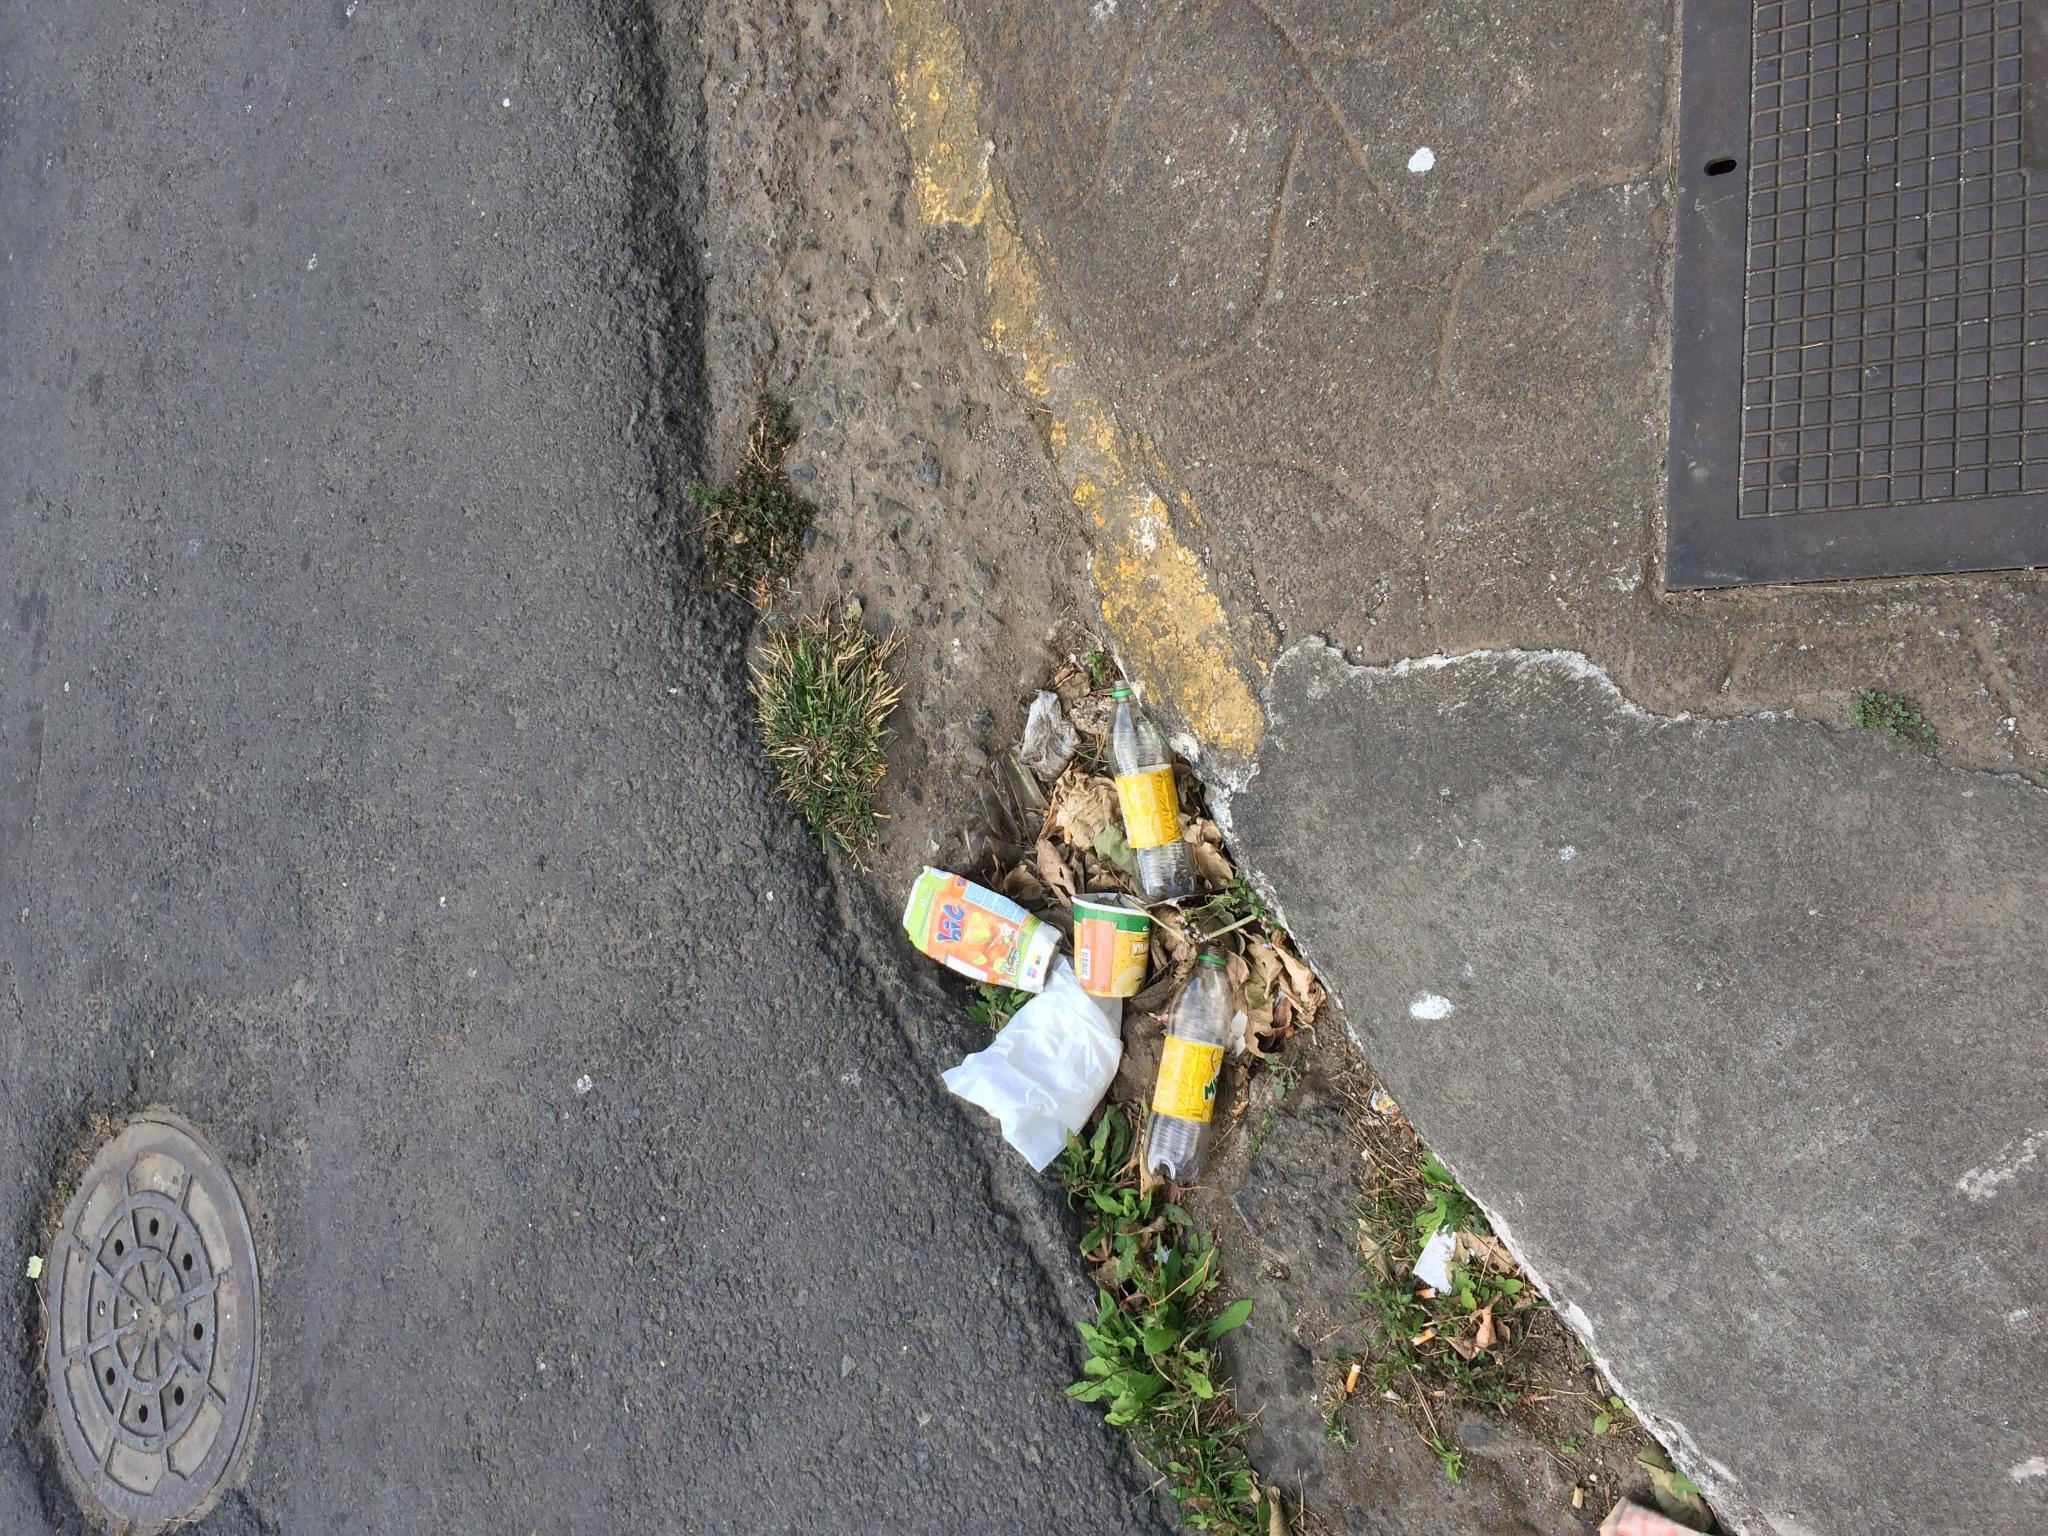bottle: (1084, 666, 1229, 908), (1130, 939, 1248, 1225)
